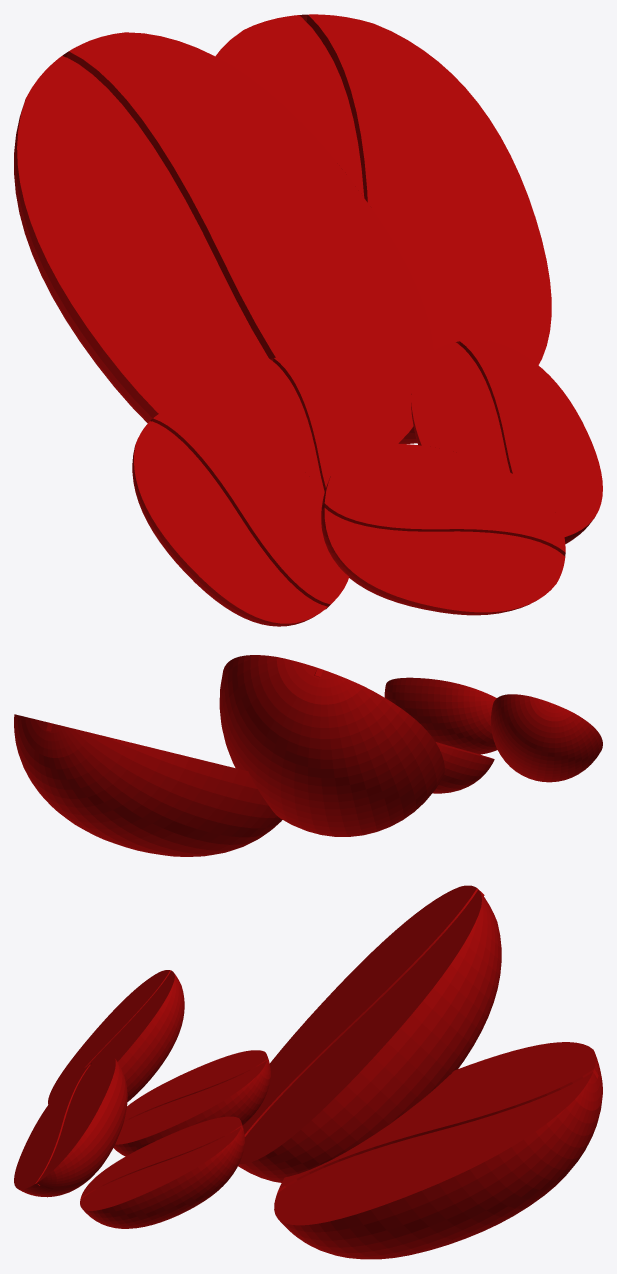
The model's file is Cafe.glb.
The picture shows the model from 3 angles, top to bottom: view 1: azimuth 30°, elevation 25°; view 2: azimuth 150°, elevation 25°; view 3: azimuth 270°, elevation 25°; orthographic projection. The views are drawn at different scales.
Visible parts, largest first — view 1: Node4359, Node4351, Node2073, Node549, Node541, Node2827, Node2835, Node1311, Node2065, Node1303, Node3597, Node3589; view 2: no part large enough to name; view 3: Node2073, Node4359, Node2065, Node4351, Node1311, Node1303, Node3597, Node3589, Node549, Node541, Node2827, Node2835.
Boxes of the visible parts, bbox=[...] form: Node4359: bbox=[69, 32, 433, 442]; Node4351: bbox=[17, 56, 268, 413]; Node2073: bbox=[308, 14, 551, 365]; Node549: bbox=[324, 444, 565, 552]; Node541: bbox=[324, 508, 565, 612]; Node2827: bbox=[134, 421, 327, 623]; Node2835: bbox=[153, 404, 348, 604]; Node1311: bbox=[460, 340, 602, 537]; Node2065: bbox=[215, 15, 359, 191]; Node1303: bbox=[411, 342, 508, 471]; Node3597: bbox=[274, 356, 398, 487]; Node3589: bbox=[225, 359, 323, 493]; Node2073: bbox=[274, 1072, 592, 1225]; Node4359: bbox=[239, 889, 481, 1164]; Node2065: bbox=[278, 1042, 595, 1189]; Node4351: bbox=[243, 885, 476, 1134]; Node1311: bbox=[80, 1127, 240, 1210]; Node1303: bbox=[81, 1116, 241, 1197]; Node3597: bbox=[115, 1060, 266, 1144]; Node3589: bbox=[124, 1050, 267, 1120]; Node549: bbox=[37, 1055, 115, 1182]; Node541: bbox=[14, 1064, 89, 1189]; Node2827: bbox=[48, 970, 169, 1104]; Node2835: bbox=[87, 970, 174, 1065].
Bounding box in the file's own units: 22.32 × 13.79 × 26.79.
